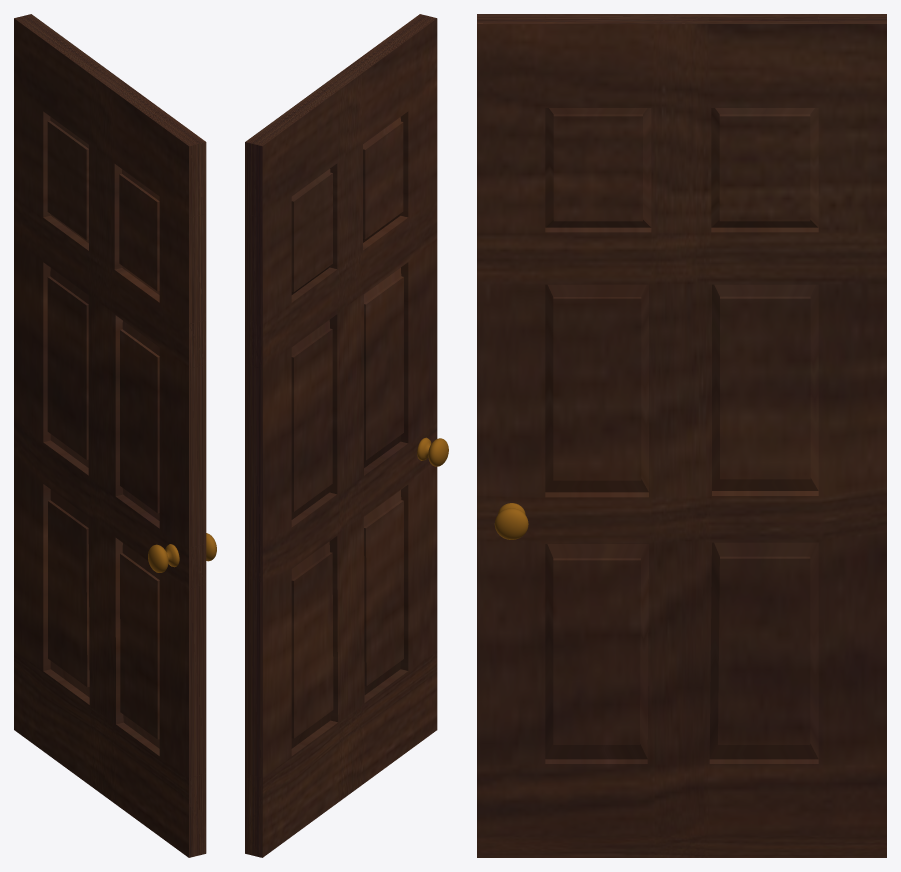
File: door.obj
3 renders of one model, left to right at view 1: azimuth 30°, elevation 25°; view 2: azimuth 150°, elevation 25°; view 3: azimuth 270°, elevation 25°, orthographic. The views are drawn at different scales.
Visible parts, largest first — view 1: pCube2; view 2: pCube2; view 3: pCube2.
Part boxes in pixels (left/top/right/bottom): pCube2: left=14, top=14, right=216, bottom=857; pCube2: left=245, top=14, right=448, bottom=857; pCube2: left=477, top=14, right=886, bottom=857.
Bounding box in the file's own units: 0.1039 × 1.12 × 0.4982.
2 materials, 1 textured.
